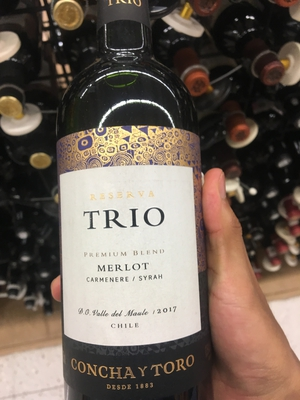trio merlot: (48, 25, 227, 397)
